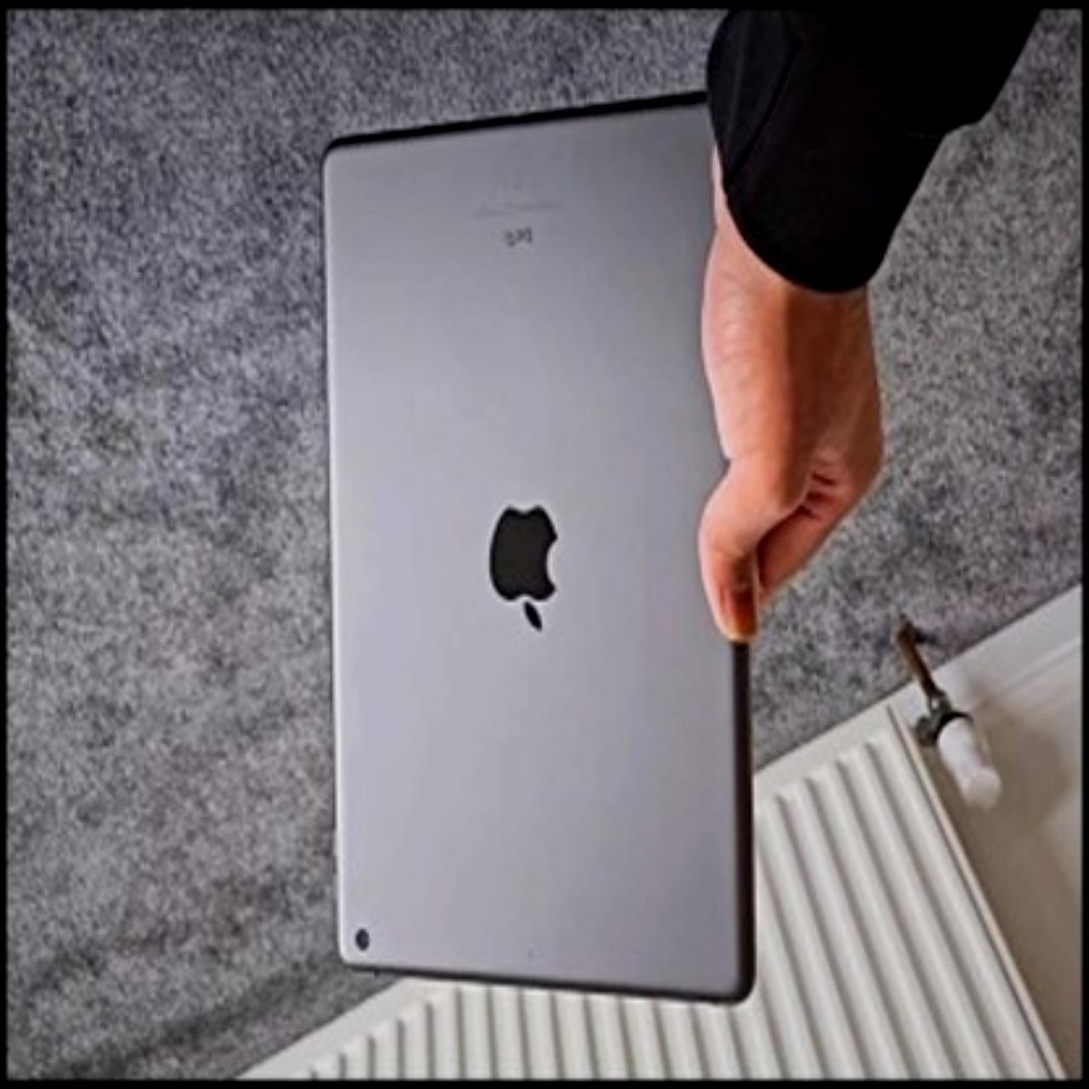Tablet_PC: (299, 87, 790, 1011)
